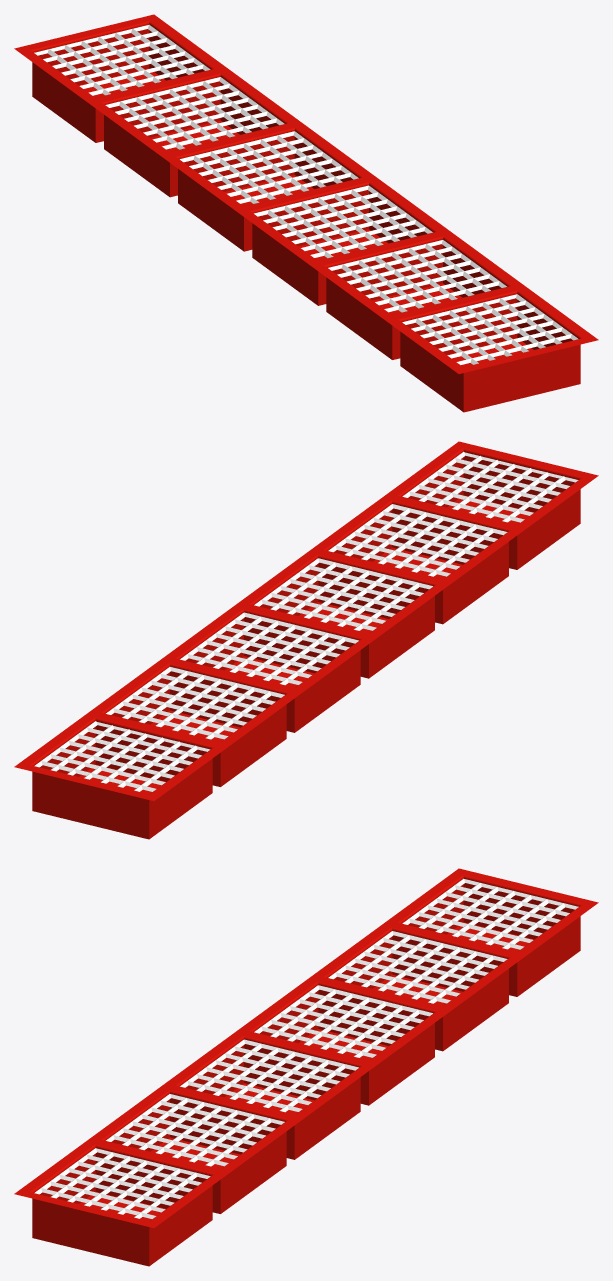
The model's file is HallWay_Grate.fbx.
3 views of the same model, one above another, from view 1: azimuth 30°, elevation 25°; view 2: azimuth 150°, elevation 25°; view 3: azimuth 330°, elevation 25° (orthographic).
Parts seen in each view (by area): view 1: Cube.019; view 2: Cube.019; view 3: Cube.019.
Boxes of the visible parts, <box> form: Cube.019: <box>14,14,598,412</box>; Cube.019: <box>14,441,598,839</box>; Cube.019: <box>14,868,598,1266</box>.
Size of the model in its own units: 200 by 62.84 by 1100.
